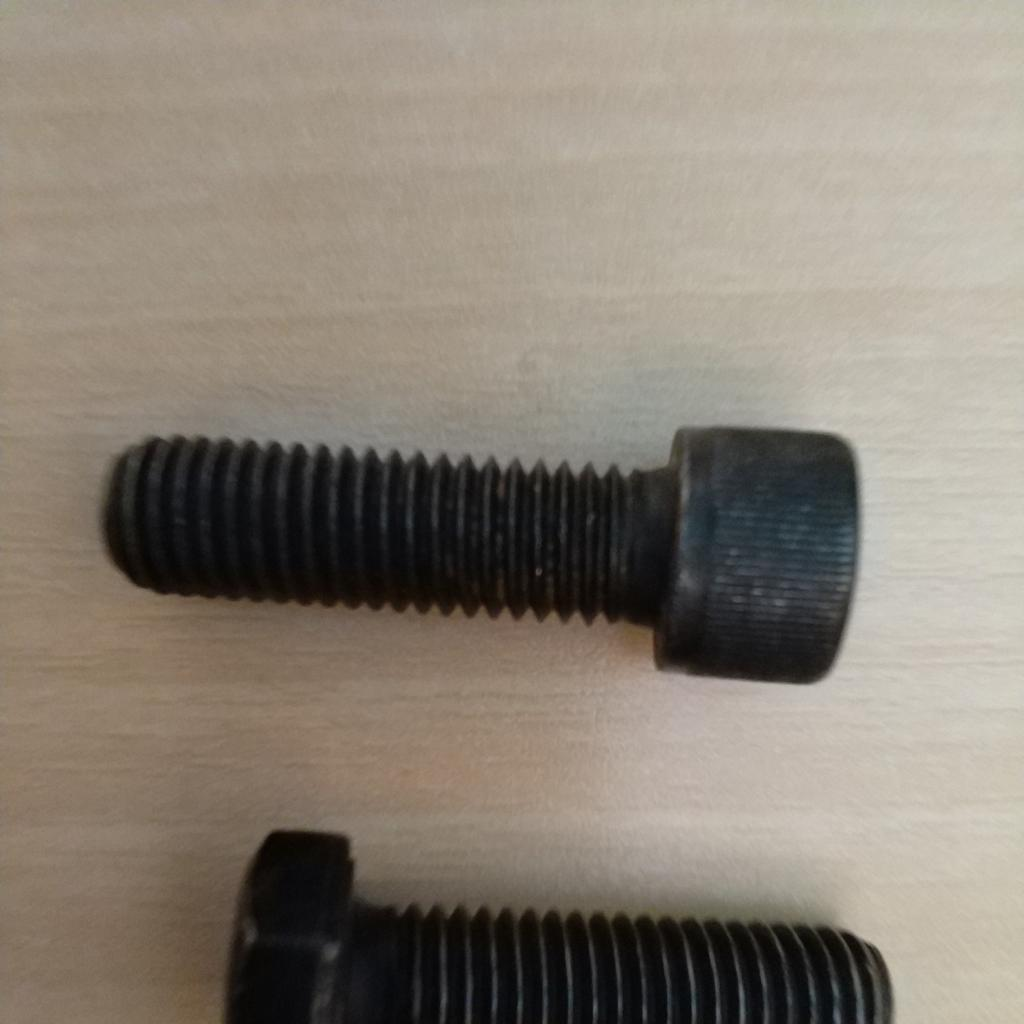screwtype1black: (96, 412, 870, 698)
screwtype2black: (197, 816, 898, 1024)
